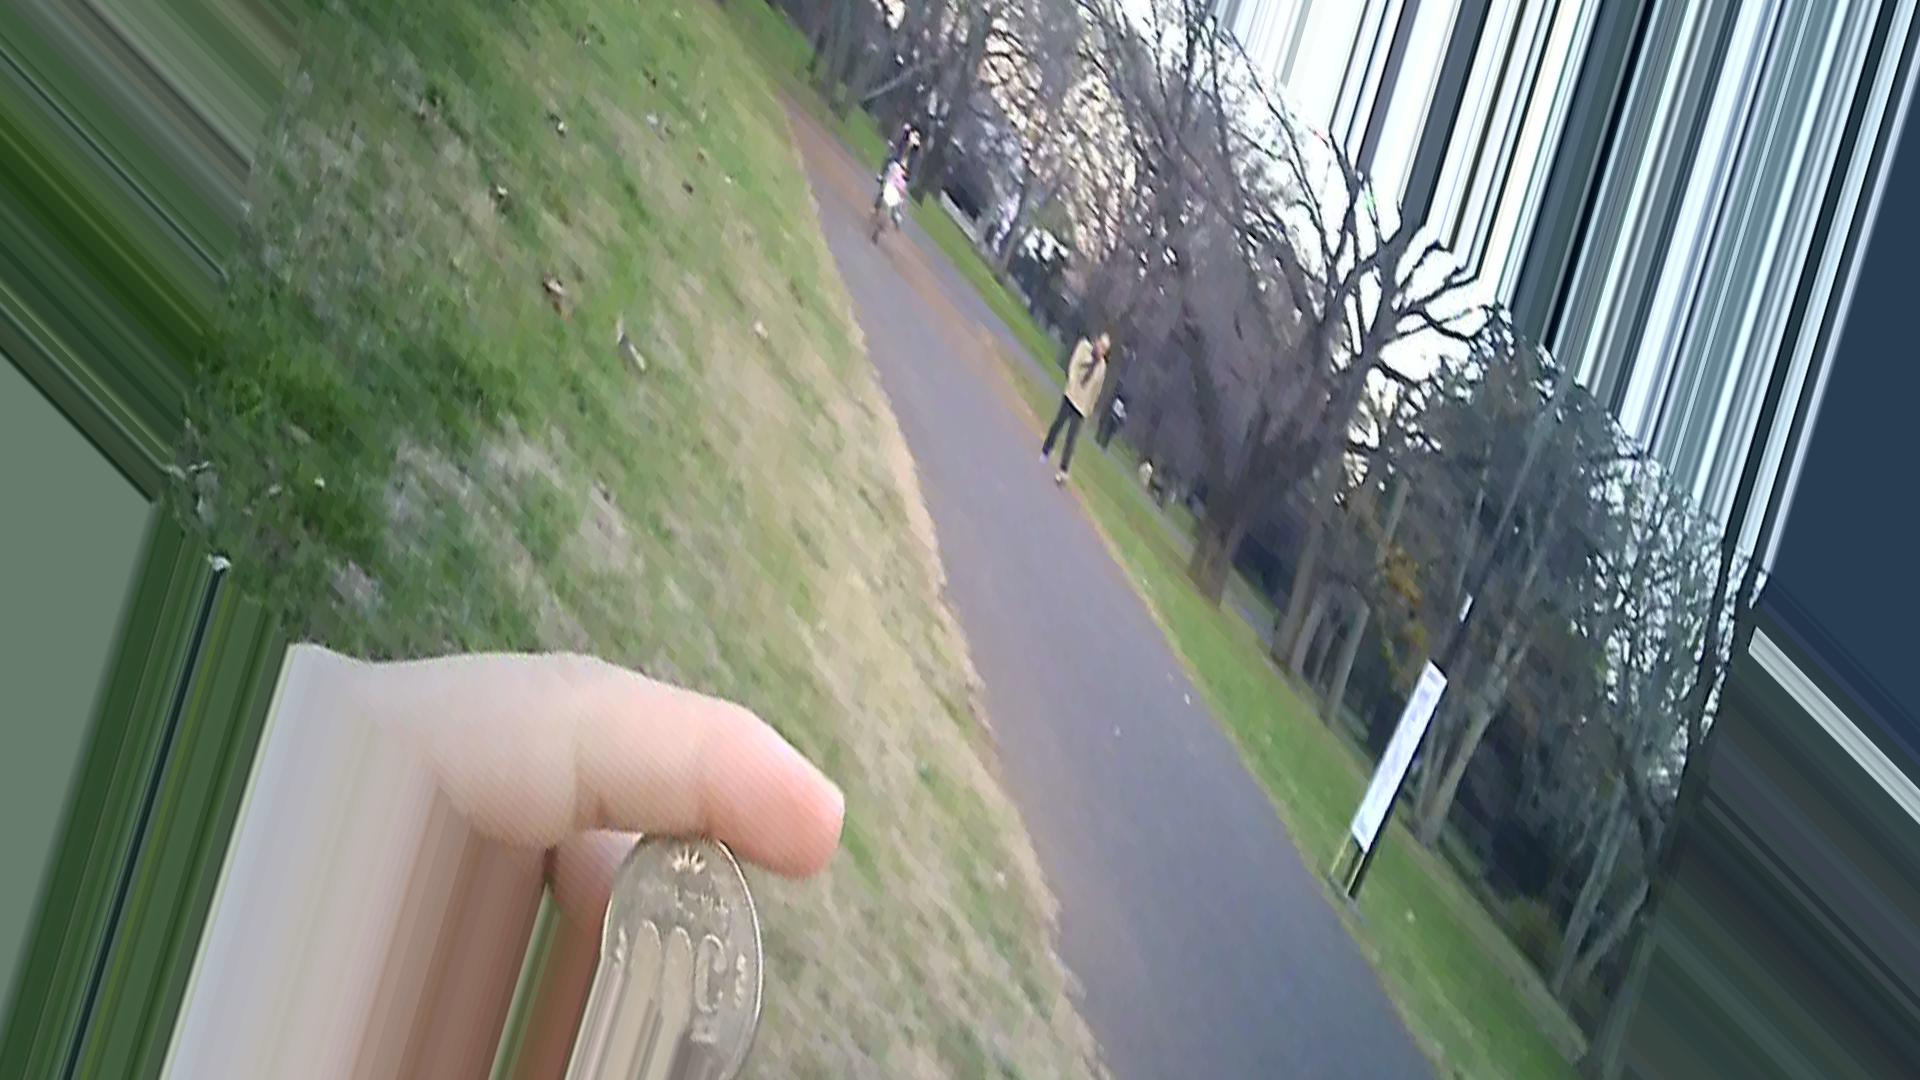500 Yen: (568, 818, 798, 1075)
